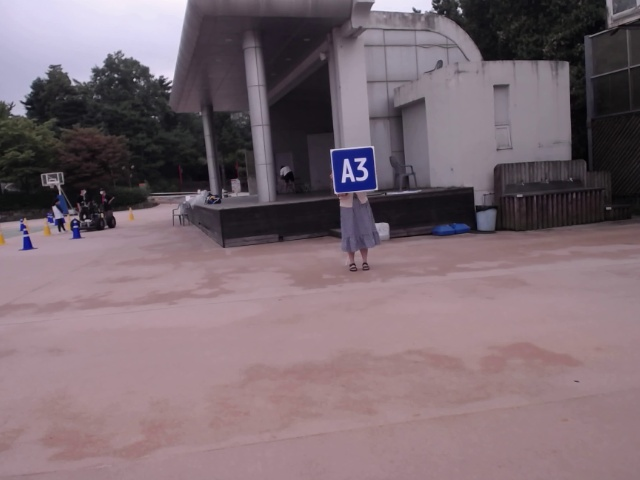delivery_a3: (330, 147, 378, 193)
